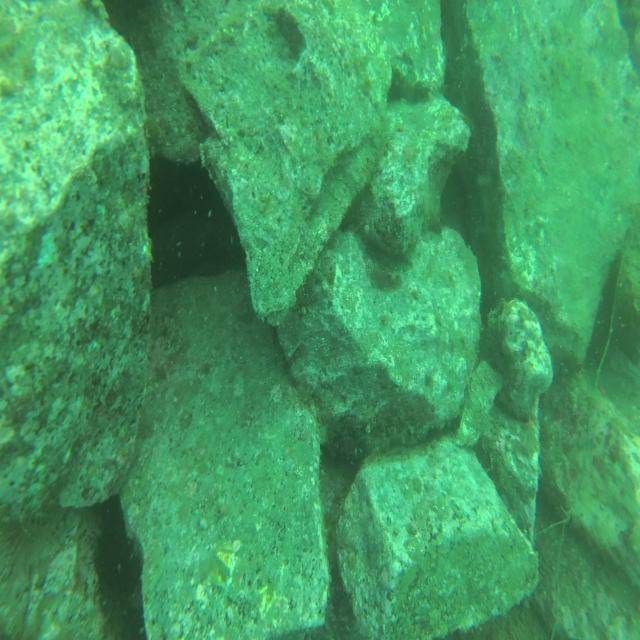echinus: (83, 525, 150, 597)
